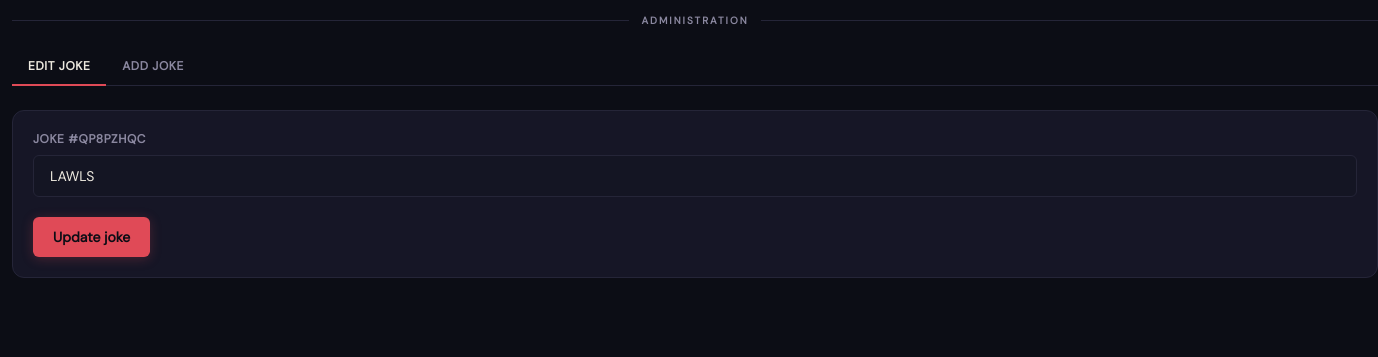
Test: Admin component › doesn't affect audio when editing a joke with no local audio
Replace the text in the field labelled "Joke #qp8pzhqc" with "fnord": (695, 176) [33,155,1357,197]
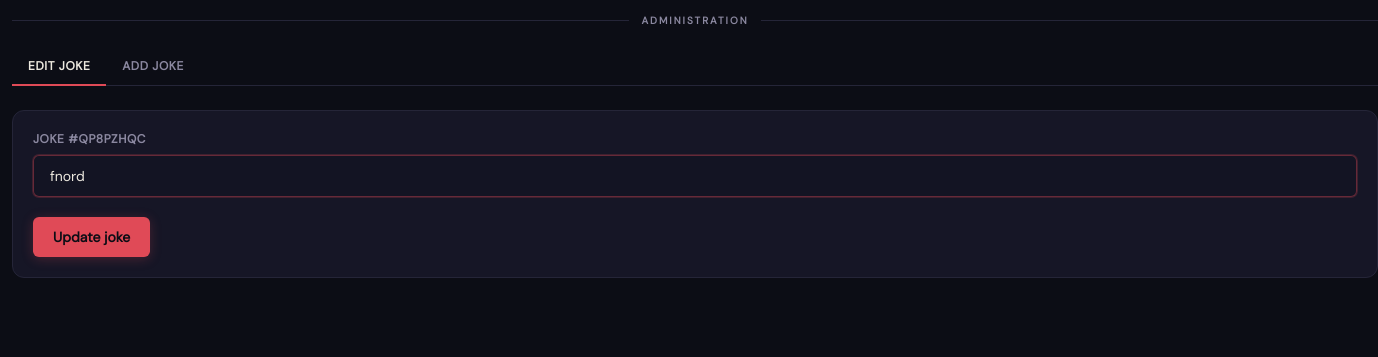
Click the button "Update joke": (92, 237) [33,217,150,257]
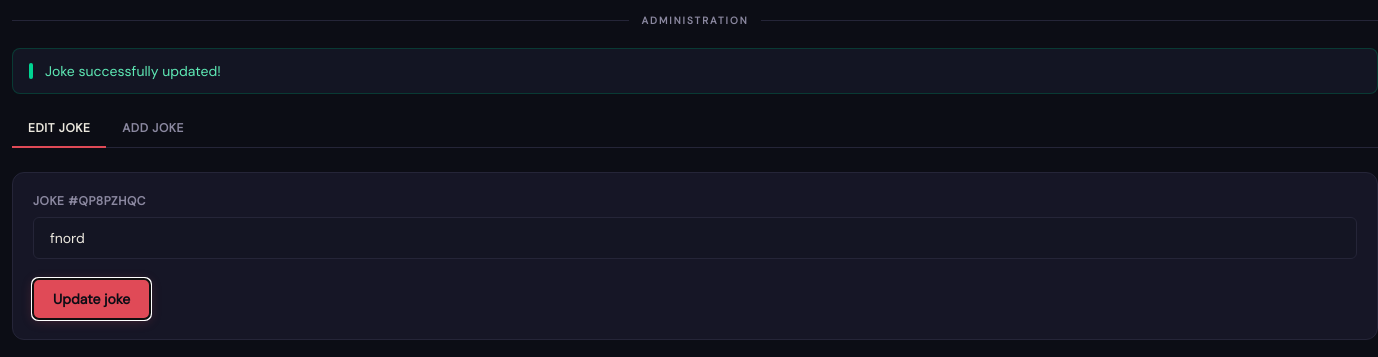
Expected: the text "Joke successfully updated!" is shown, [12,48,1377,94]
